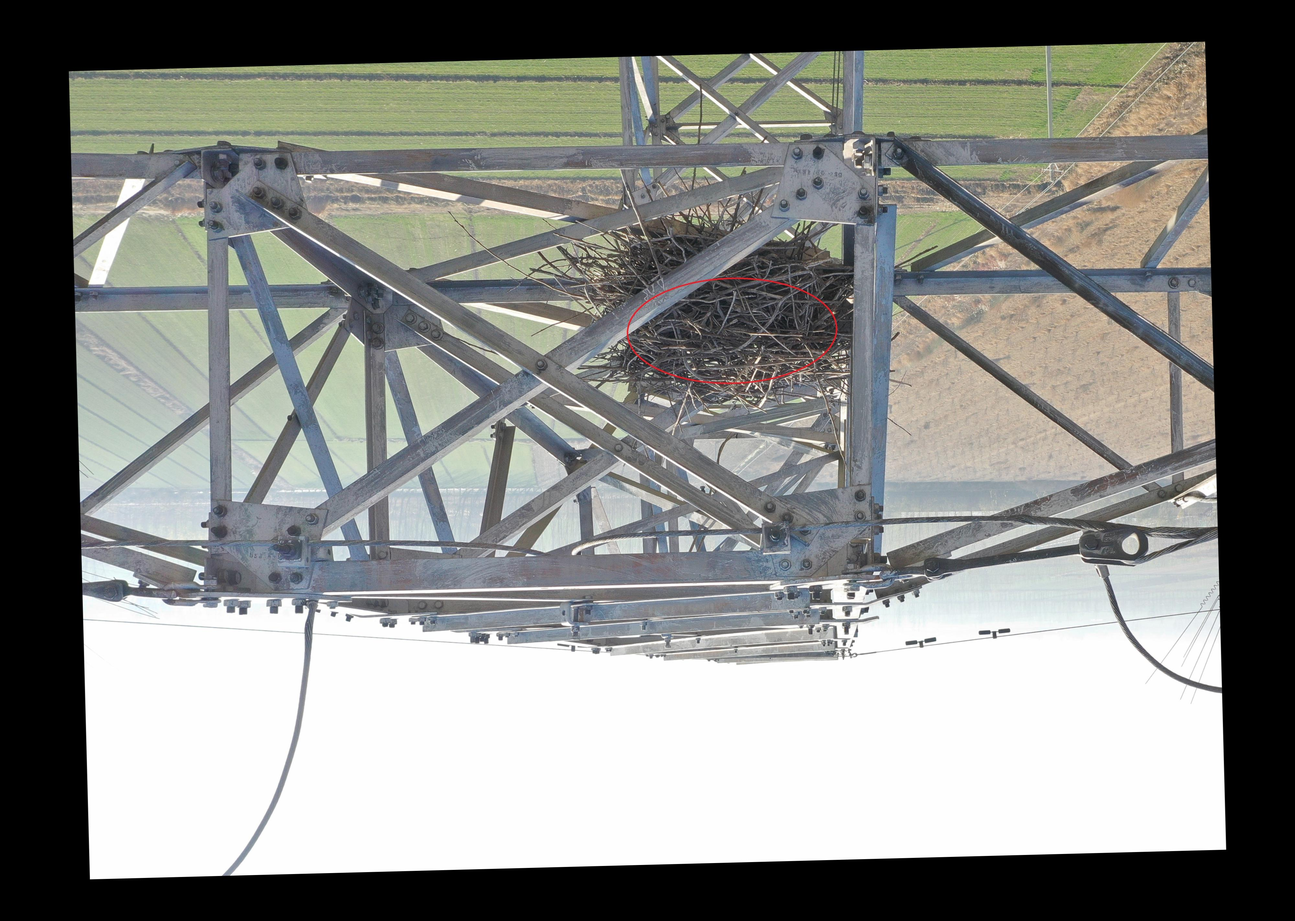damper_defect: (904, 636, 938, 650), (977, 627, 1012, 640)
